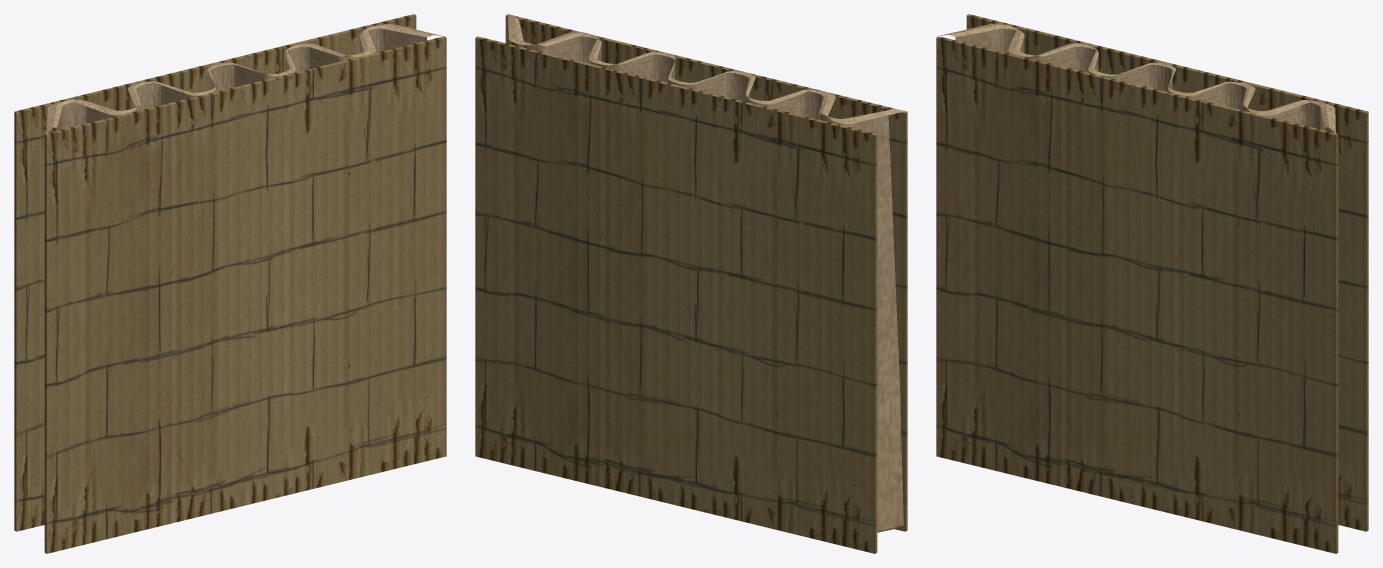
The model's file is wall.fbx.
3 views of the same model, side by side, from view 1: azimuth 30°, elevation 25°; view 2: azimuth 150°, elevation 25°; view 3: azimuth 330°, elevation 25° (orthographic).
Parts seen in each view (by area): view 1: wall, raster; view 2: wall, raster; view 3: wall, raster.
Boxes of the visible parts, x1=… form: wall: x1=14, y1=14, x2=446, y2=553; raster: x1=46, y1=23, x2=443, y2=132; wall: x1=475, y1=14, x2=907, y2=553; raster: x1=508, y1=14, x2=905, y2=532; wall: x1=936, y1=14, x2=1368, y2=553; raster: x1=939, y1=23, x2=1335, y2=133.
Bounding box in the file's own units: 266 × 268 × 37.41.
2 materials, 2 textured.
